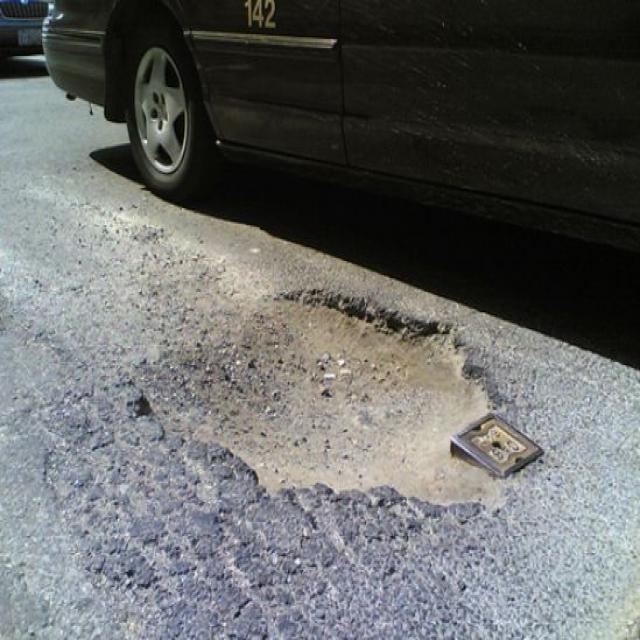pothole: (122, 282, 526, 510)
